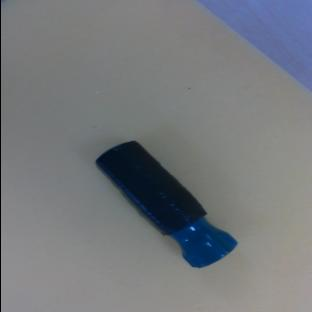part_2_bad: (91, 130, 239, 279)
